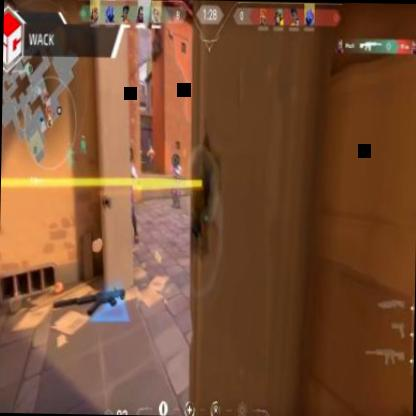enemy: (118, 144, 140, 245), (168, 153, 181, 209), (146, 144, 154, 172)
enemy_head: (123, 145, 133, 165), (172, 154, 178, 167), (149, 143, 152, 150)
